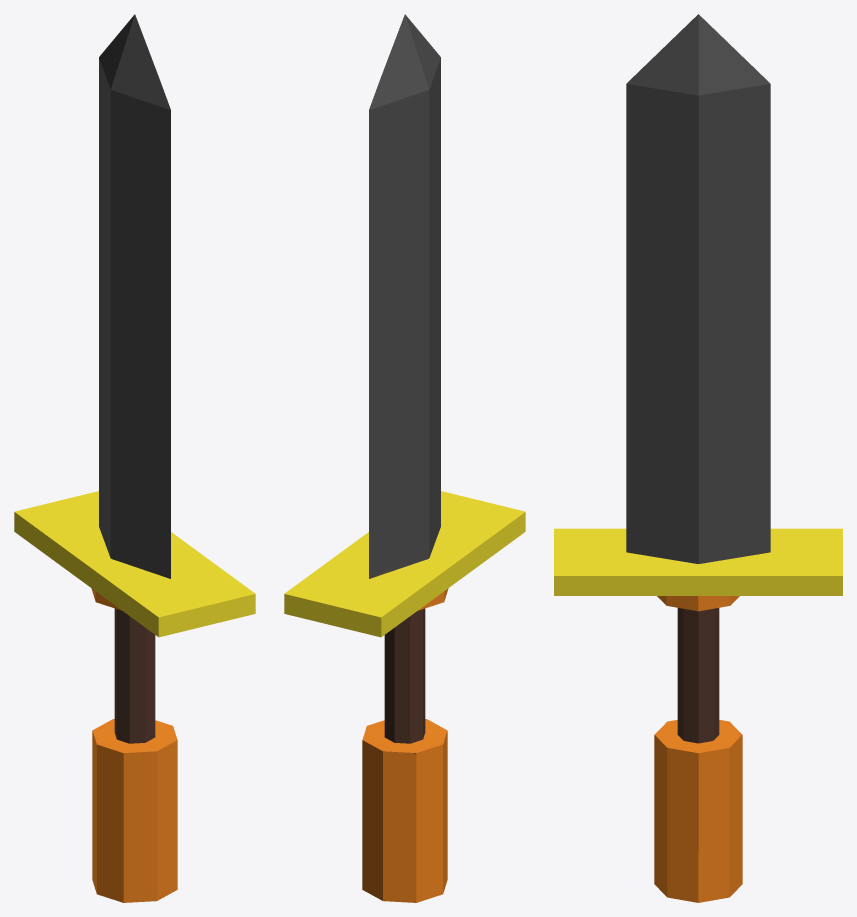
File: Sword.glb
3 views of the same model, side by side, from view 1: azimuth 30°, elevation 25°; view 2: azimuth 150°, elevation 25°; view 3: azimuth 270°, elevation 25° (orthographic).
Parts seen in each view (by area): view 1: Circle; view 2: Circle; view 3: Circle.
Boxes of the visible parts, left/top/right/bottom form: Circle: left=14, top=14, right=255, bottom=902; Circle: left=284, top=14, right=525, bottom=902; Circle: left=554, top=14, right=842, bottom=902.
Size of the model in its own units: 1.02 by 8.73 by 2.63.
1 material, 1 textured.
